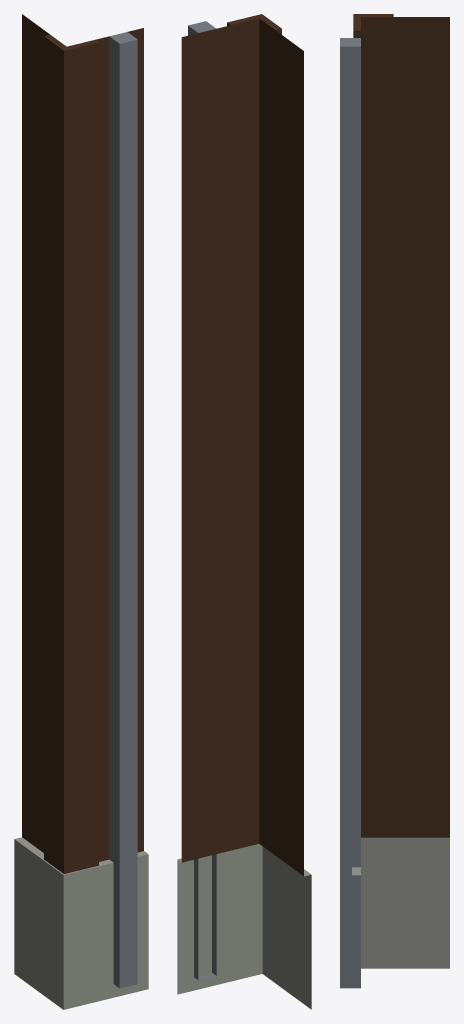
3 views of the same model, side by side, from view 1: azimuth 30°, elevation 25°; view 2: azimuth 210°, elevation 25°; view 3: azimuth 270°, elevation 25° (orthographic).
Visible parts, largest first — view 1: a2000/0/base-c1; view 2: a2000/0/base-c1; view 3: a2000/0/base-c1.
Part boxes in pixels (x1,y1,x2,y2): a2000/0/base-c1: (14, 14, 148, 1009); a2000/0/base-c1: (177, 14, 311, 1009); a2000/0/base-c1: (340, 14, 449, 988).
Bounding box in the file's own units: 0.33 × 3.55 × 0.37.
